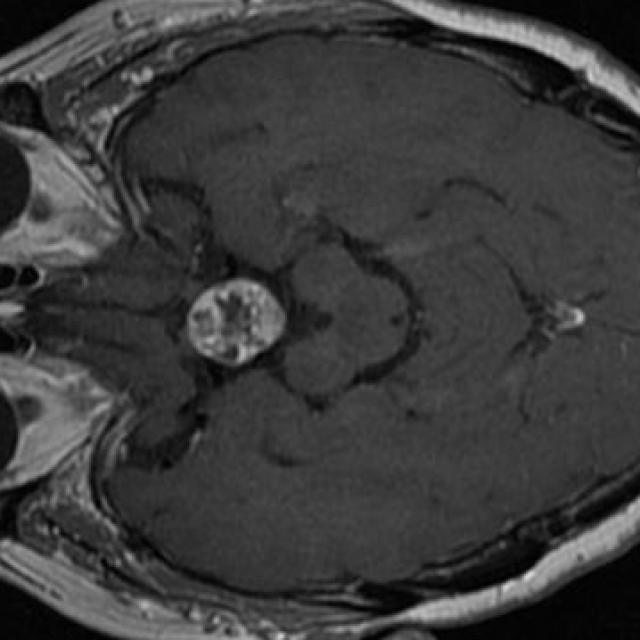pituitary: (185, 276, 287, 371)
